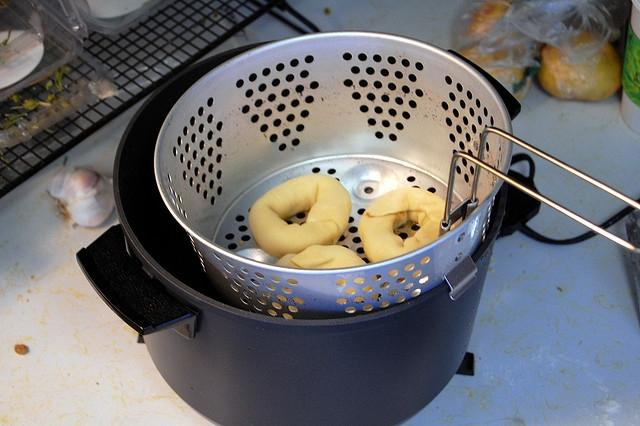garlic: (48, 164, 114, 228)
